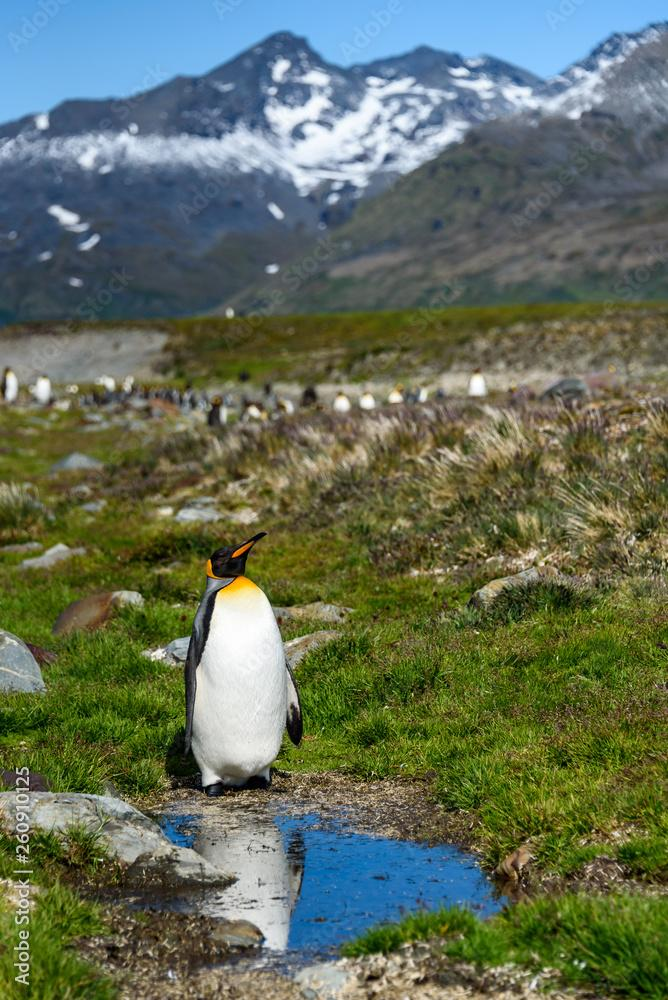king: (127, 496, 311, 825)
